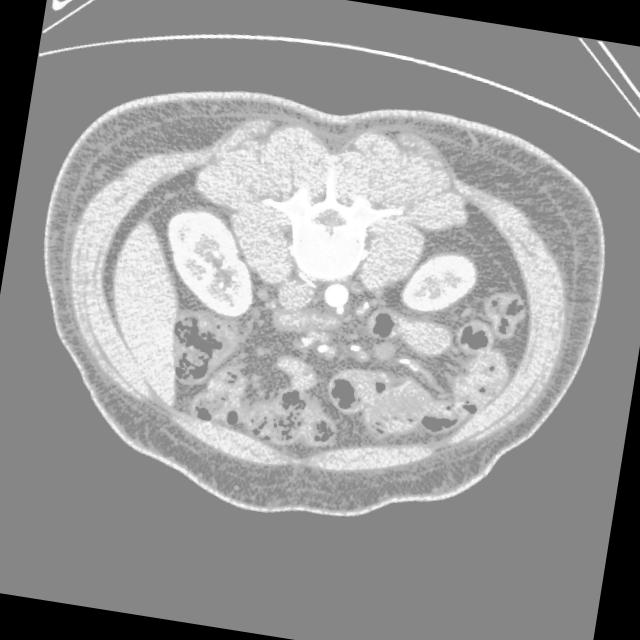NORMAL: (4, 20, 631, 554)
